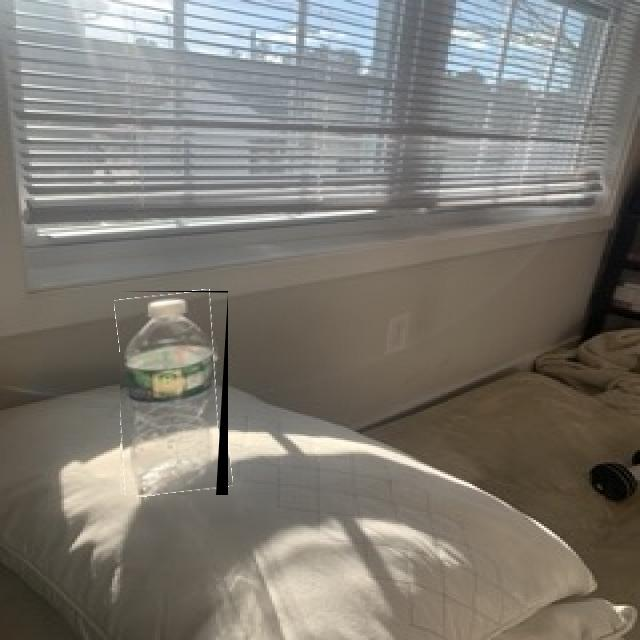water_bottle: (120, 291, 228, 495)
